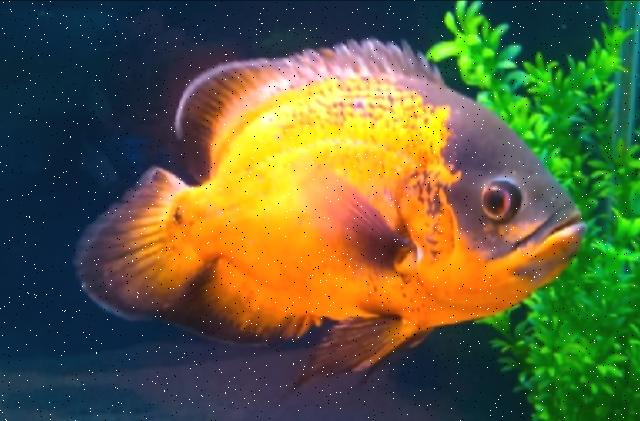Mulut: (514, 178, 596, 282)
Sirip Anal: (168, 254, 318, 355)
Sirip Dada: (292, 155, 422, 279)
Sirip Ekor: (58, 152, 194, 332)
Sirip Perut: (291, 305, 441, 401)
Sirip Punggung: (170, 30, 434, 172)
